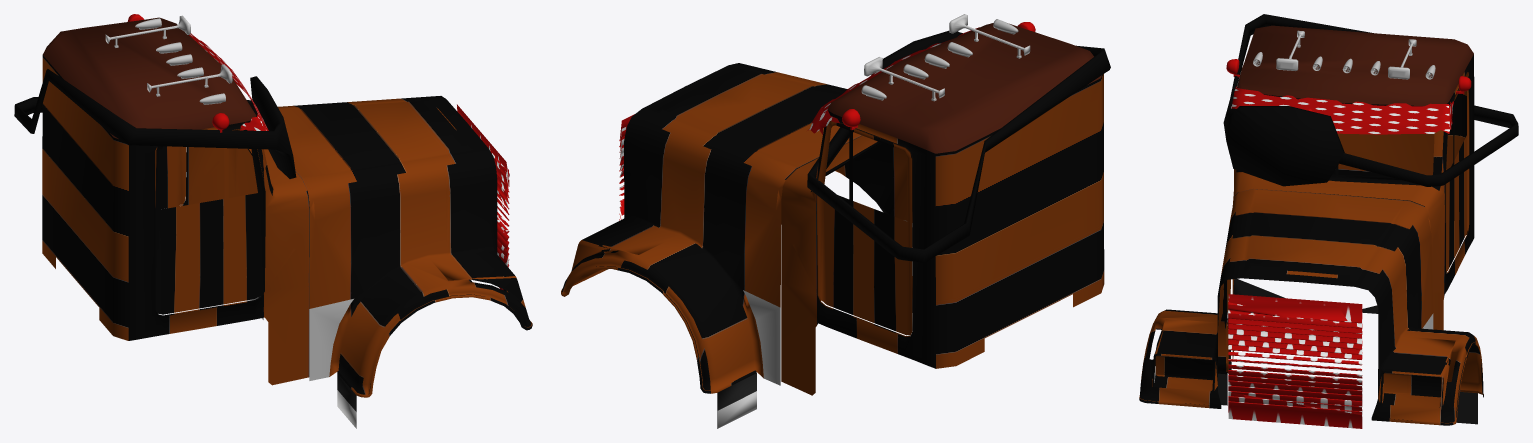
Rendered from LouneStar_McTruck4__STCheckGLB.glb.
3 renders of one model, left to right at view 1: azimuth 30°, elevation 25°; view 2: azimuth 150°, elevation 25°; view 3: azimuth 270°, elevation 25°, orthographic. The views are drawn at different scales.
Visible parts, largest first — view 1: PladeMetal, Foererum, Doeres, Top, OejeKlap, HornMetal, Grill, SolSkaermOeverstCockpit; view 2: PladeMetal, Foererum, Top, Doeres, OejeKlap, HornMetal, SolSkaermOeverstCockpit; view 3: PladeMetal, Grill, Top, OejeKlap, Foererum, SolSkaermOeverstCockpit, Doeres, HornMetal.
Part boxes in pixels (box(x1,y1,x2,y2)): PladeMetal: box(236, 96, 532, 428); Foererum: box(42, 55, 309, 385); Doeres: box(155, 128, 265, 316); Top: box(42, 17, 256, 138); OejeKlap: box(14, 69, 296, 178); HornMetal: box(105, 14, 232, 132); Grill: box(457, 104, 509, 290); SolSkaermOeverstCockpit: box(189, 33, 268, 130); PladeMetal: box(561, 63, 912, 428); Foererum: box(781, 74, 1104, 395); Top: box(827, 23, 1101, 153); Doeres: box(817, 121, 912, 336); OejeKlap: box(807, 30, 1110, 262); HornMetal: box(842, 14, 1035, 130); SolSkaermOeverstCockpit: box(807, 27, 979, 134); PladeMetal: box(1139, 189, 1483, 425); Grill: box(1228, 294, 1362, 428); Top: box(1237, 25, 1473, 106); OejeKlap: box(1223, 14, 1518, 186); Foererum: box(1232, 54, 1474, 358); SolSkaermOeverstCockpit: box(1231, 86, 1453, 134); Doeres: box(1445, 72, 1469, 273); HornMetal: box(1226, 30, 1471, 94).
Size of the model in its own units: 0.6883 by 0.5395 by 0.5979.
Materials: 8 (3 with a texture image).
